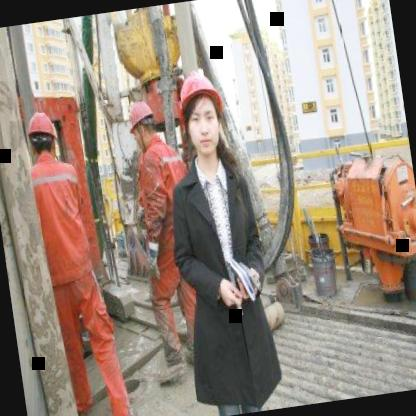helmet: (169, 60, 234, 162), (23, 110, 61, 164), (123, 97, 160, 151)
